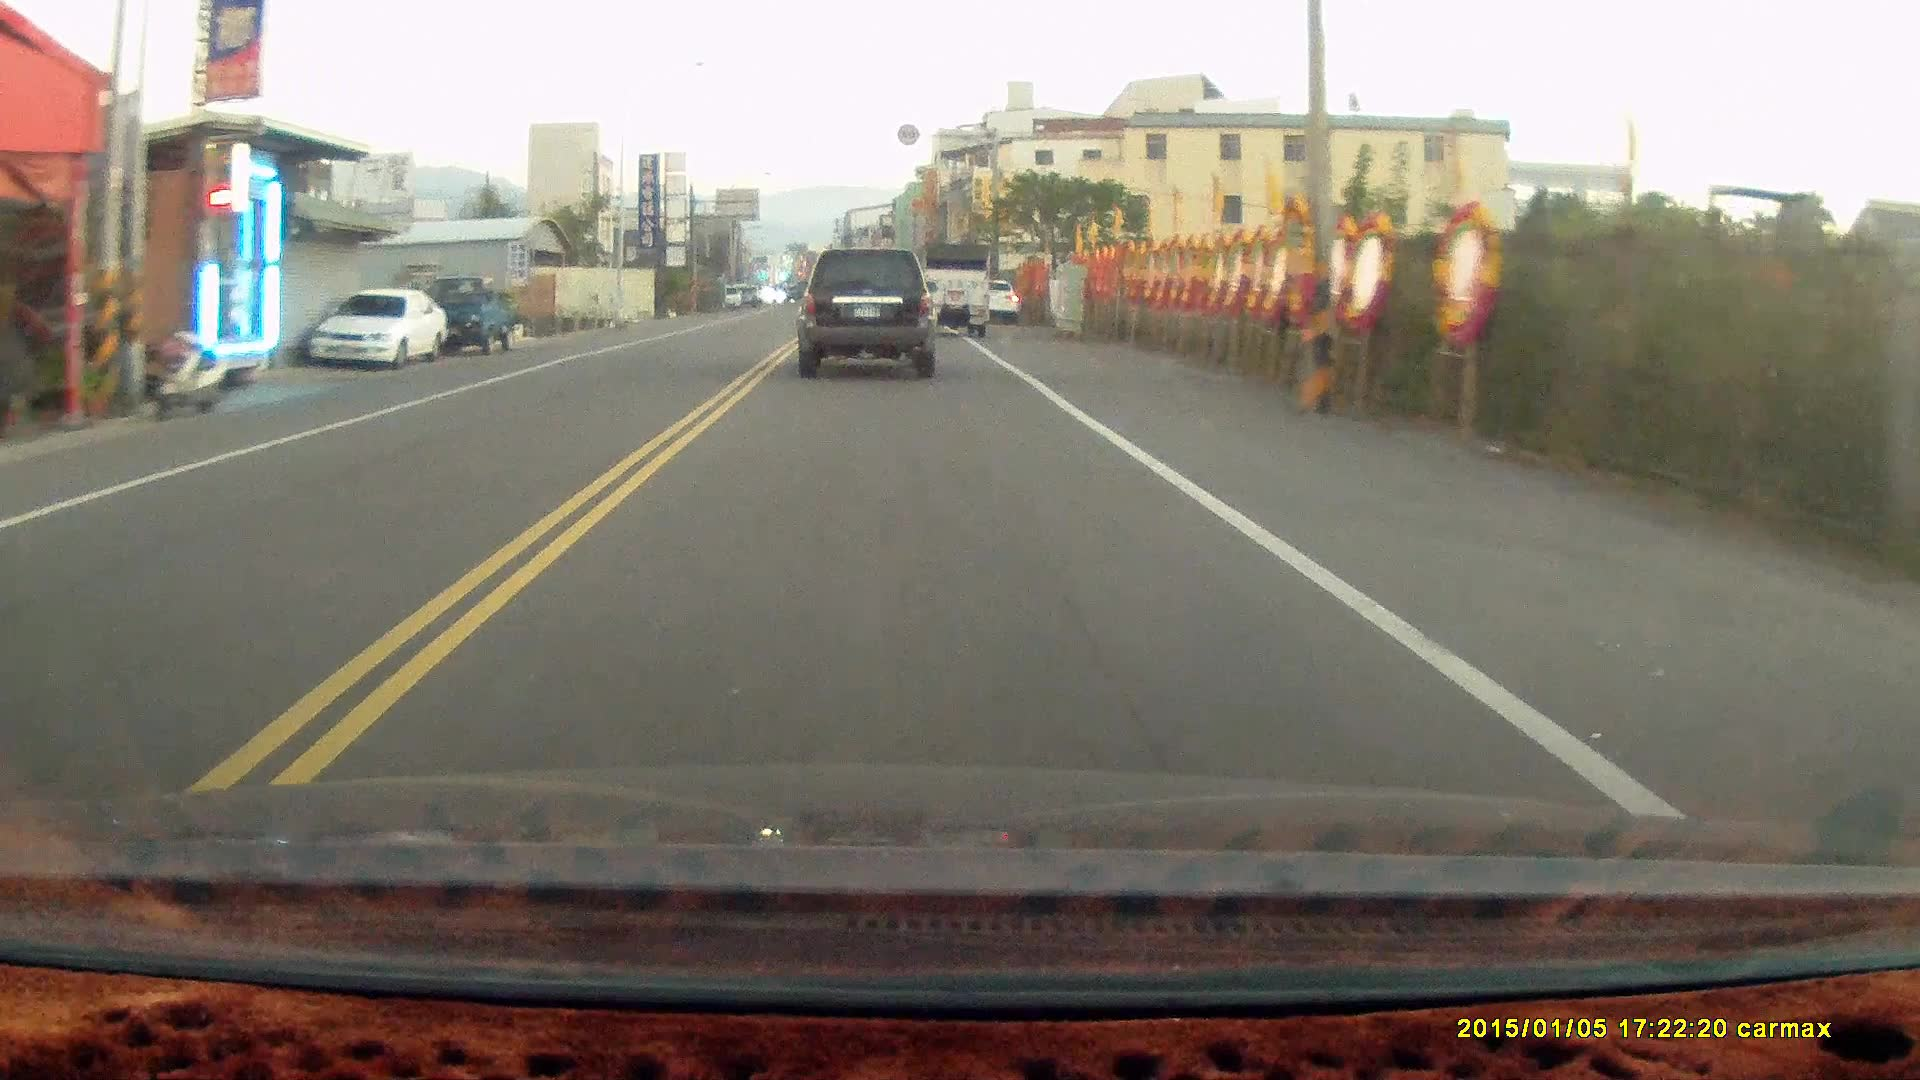vehicle: (800, 247, 942, 380), (311, 287, 451, 371), (426, 274, 525, 357), (918, 243, 994, 340)
